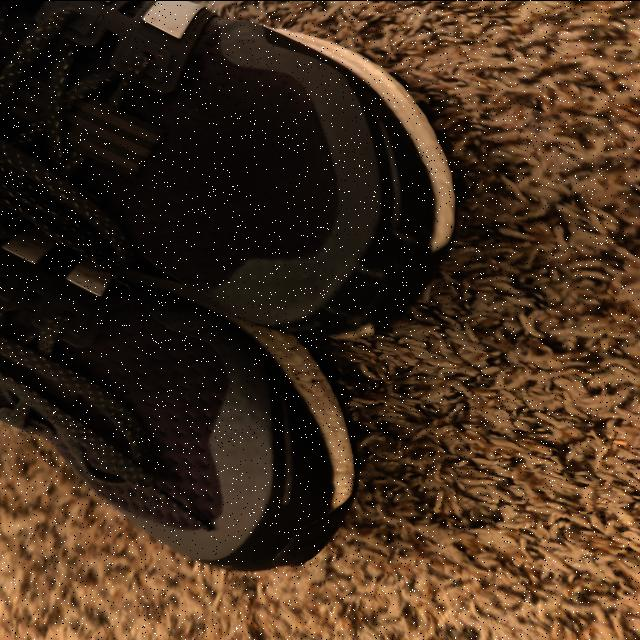black shoes: (4, 44, 354, 360)
